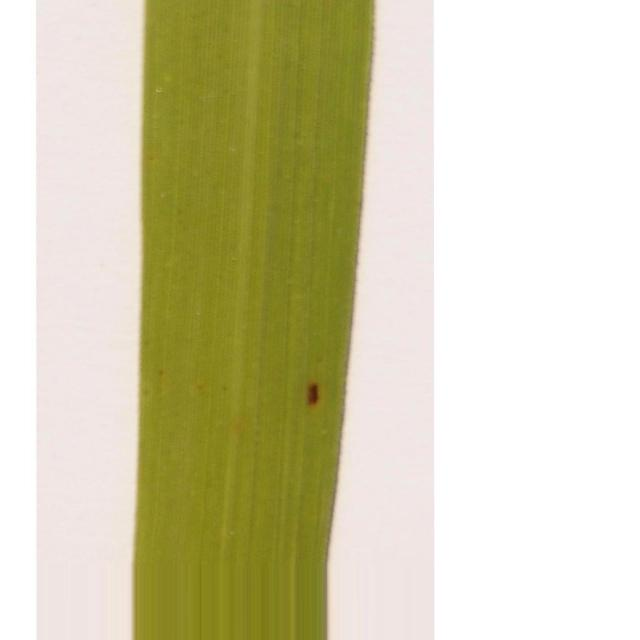Brown_Spot: (306, 381, 321, 406)
